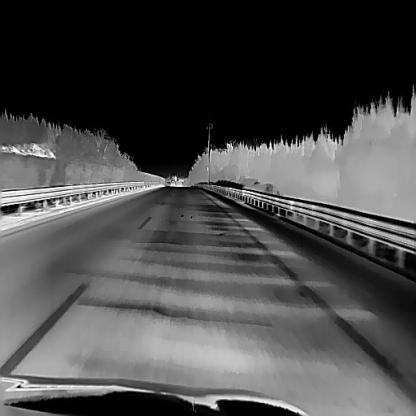car: (169, 178, 176, 186)
